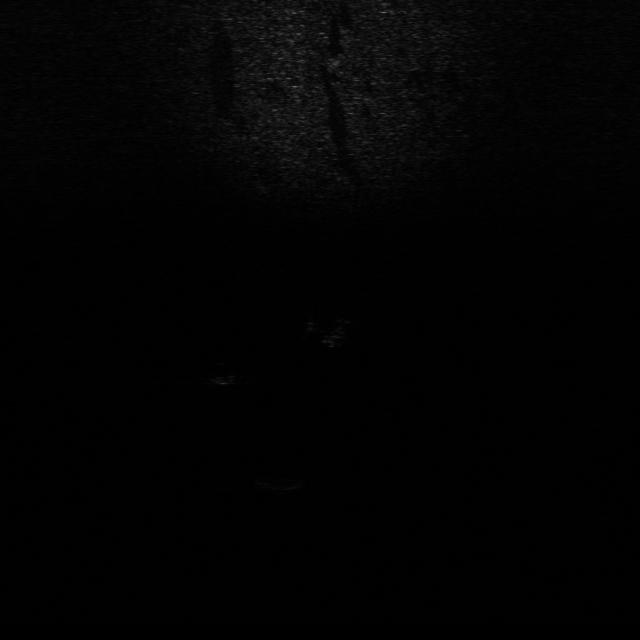ball: (206, 356, 240, 386)
circle cage: (256, 468, 306, 493)
human body: (300, 312, 360, 348)
